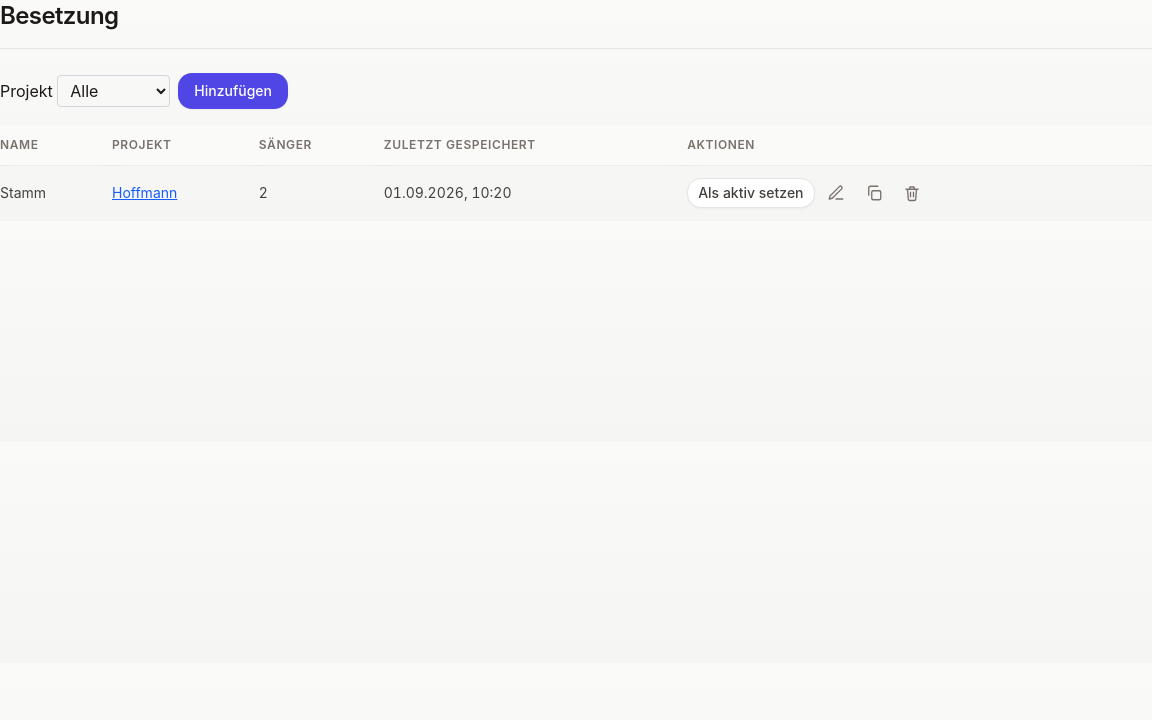
Test case: BesetzungPage Qt-Tabelle › edits via dialog
Expected: the text "Stamm" is shown, [0,166,112,220]
Click the button named "Bearbeiten" at [836, 193], box [818,176,852,210]
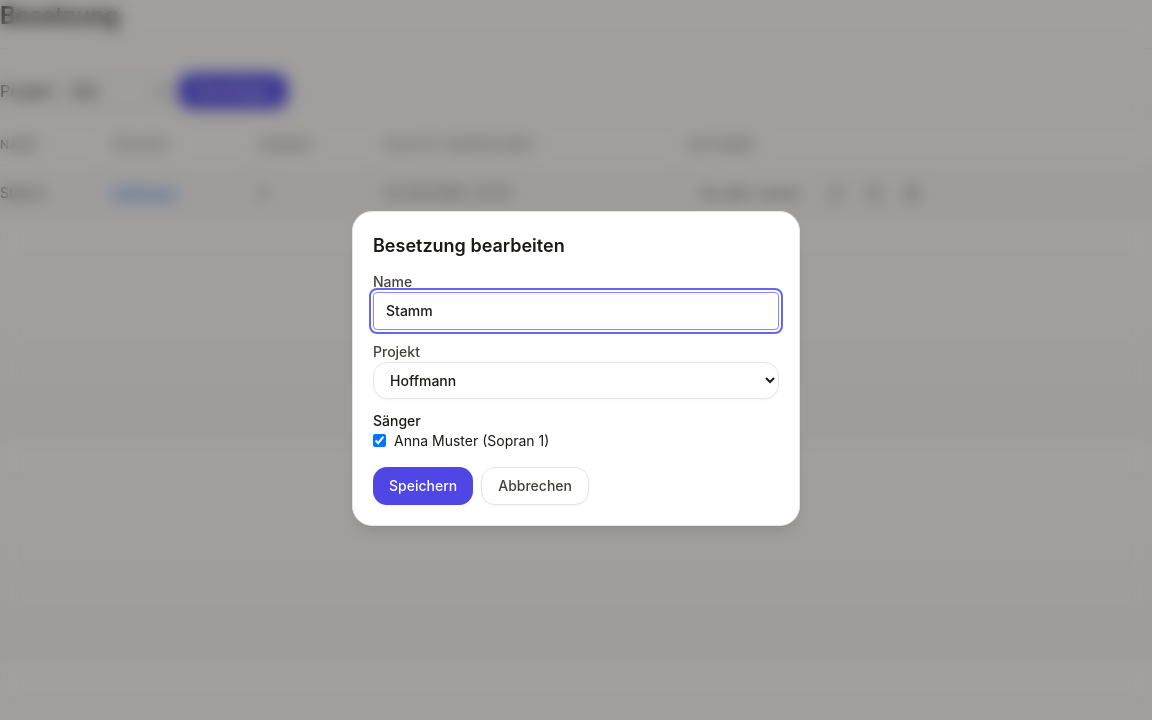
Replace the text in the field labelled "Name" with "Stamm Neu" at [576, 310], box [373,292,779,330]
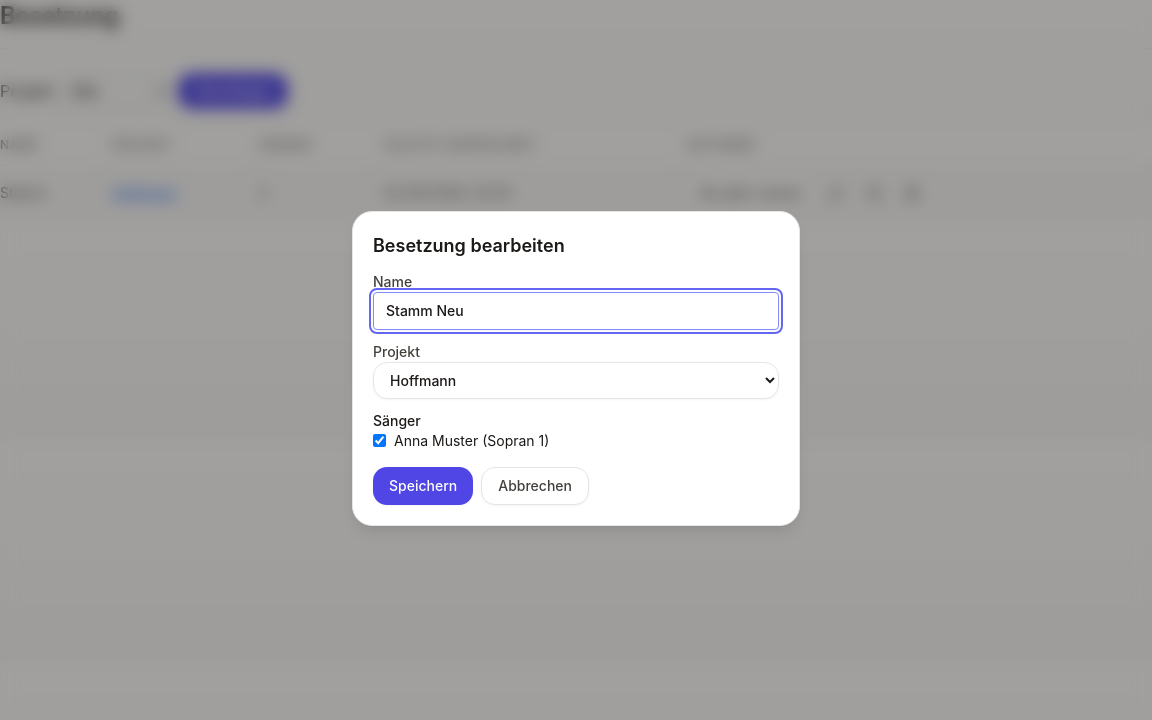
Click the button "Speichern" at [423, 486], box [373,466,473,504]
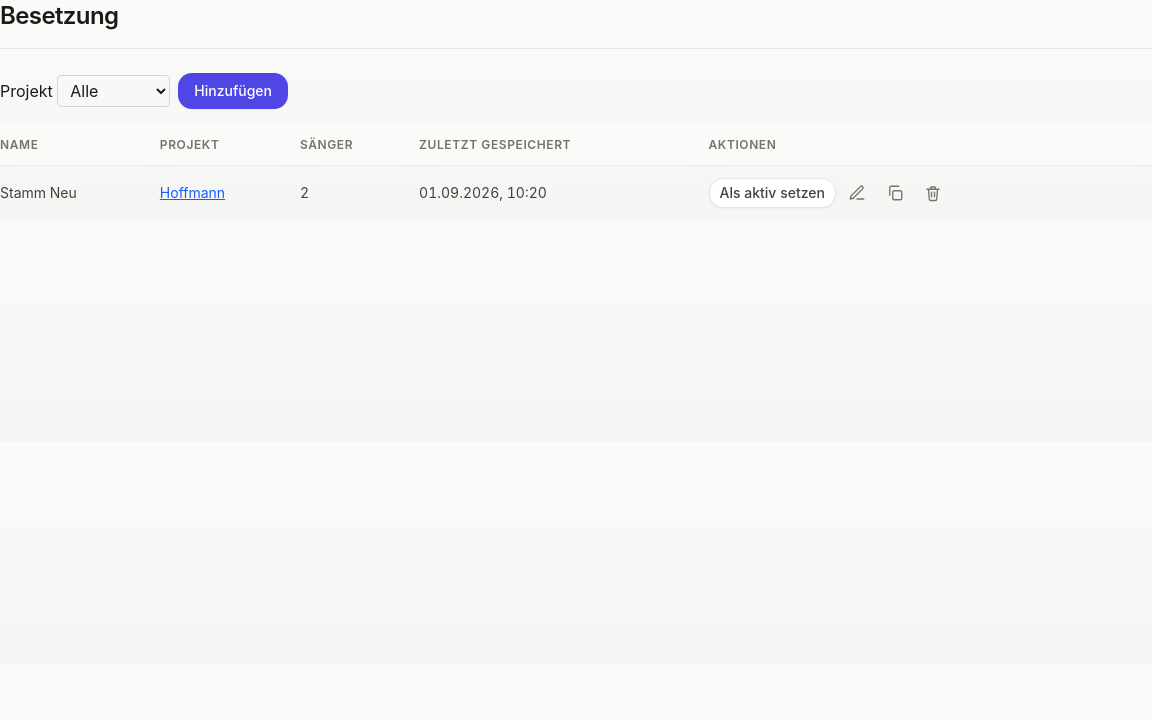
Expected: the text "Stamm Neu" is shown, [0,166,160,220]
